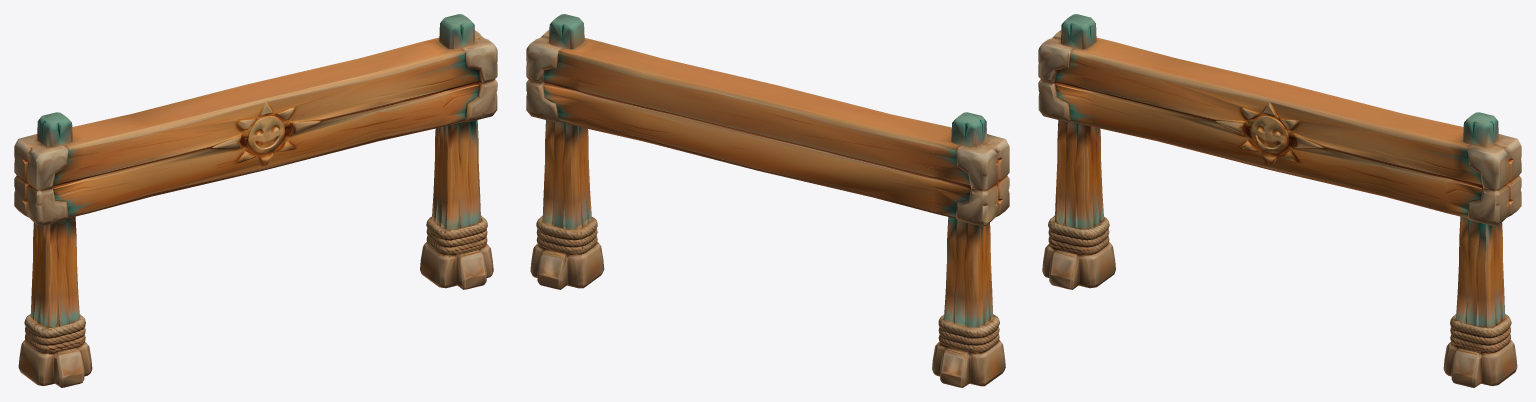
Rendered from asset.glb.
The picture shows the model from 3 angles, left to right: view 1: azimuth 30°, elevation 25°; view 2: azimuth 150°, elevation 25°; view 3: azimuth 330°, elevation 25°; orthographic projection.
Visible parts, largest first — view 1: material; view 2: material; view 3: material.
Boxes of the visible parts, x1,y1,x2,y2 form: material: (14, 14, 497, 387); material: (526, 14, 1009, 387); material: (1038, 14, 1521, 387).
Size of the model in its own units: 80.98 by 42.84 by 11.
1 material, 1 textured.
